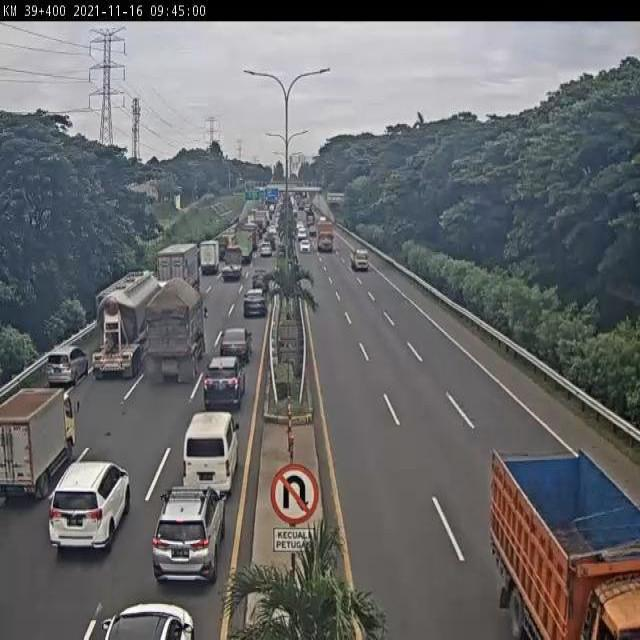car: (48, 465, 128, 551), (152, 488, 225, 581), (203, 354, 244, 406), (46, 346, 88, 386), (219, 327, 252, 361), (242, 291, 266, 317), (251, 268, 269, 293)
small bus: (183, 412, 239, 492)
small truck: (0, 387, 81, 497)
truck-l-: (144, 283, 203, 388), (157, 240, 202, 304)
truck-m-: (490, 449, 640, 639), (199, 237, 221, 275), (220, 247, 244, 281)
truck-xl-: (92, 271, 166, 380)
